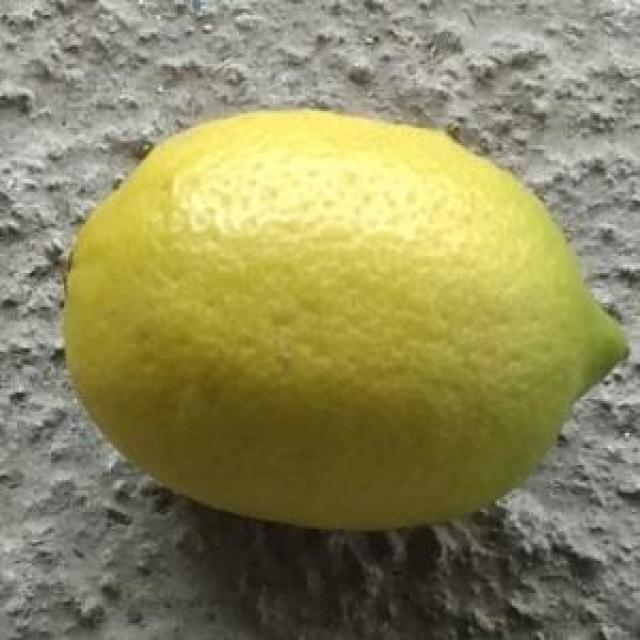lemon: (59, 113, 630, 526)
